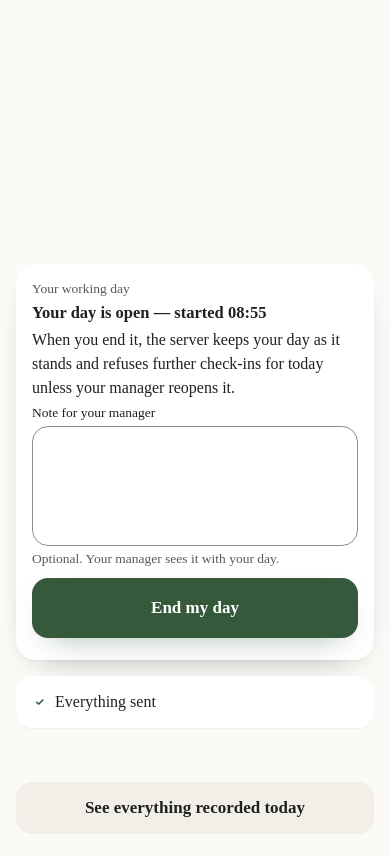
FE-W80 — End my day › with signal: queued, sent as a CLOSE of the server’s day with the note, and the pull asked for
This screenshot has width=390, height=856.
(page scrolled)
Expected: the text "End my day" is shown, [151,597,239,619]
Type " Car broke down " into the text box named "Note for your manager" at (195, 486), box [49,427,341,545]
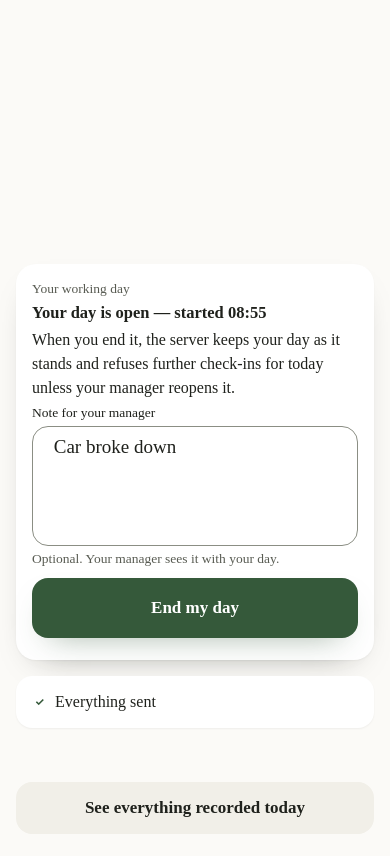
Click the button "End my day" at (195, 608), box [32,578,358,638]
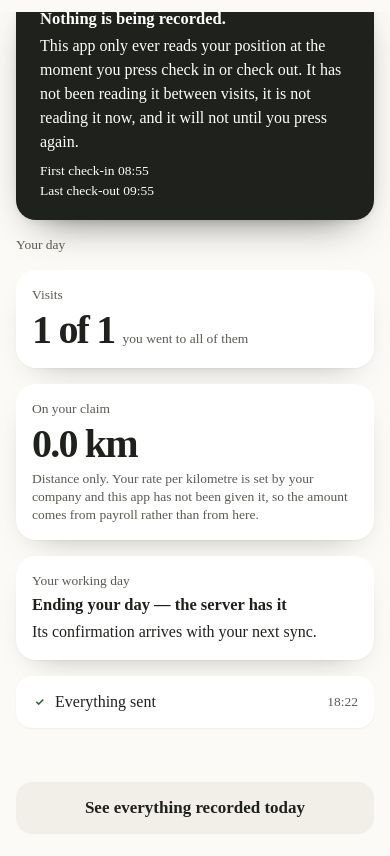
Result: the text "Ending your day — the server has it" is shown at [32,595,287,614]
